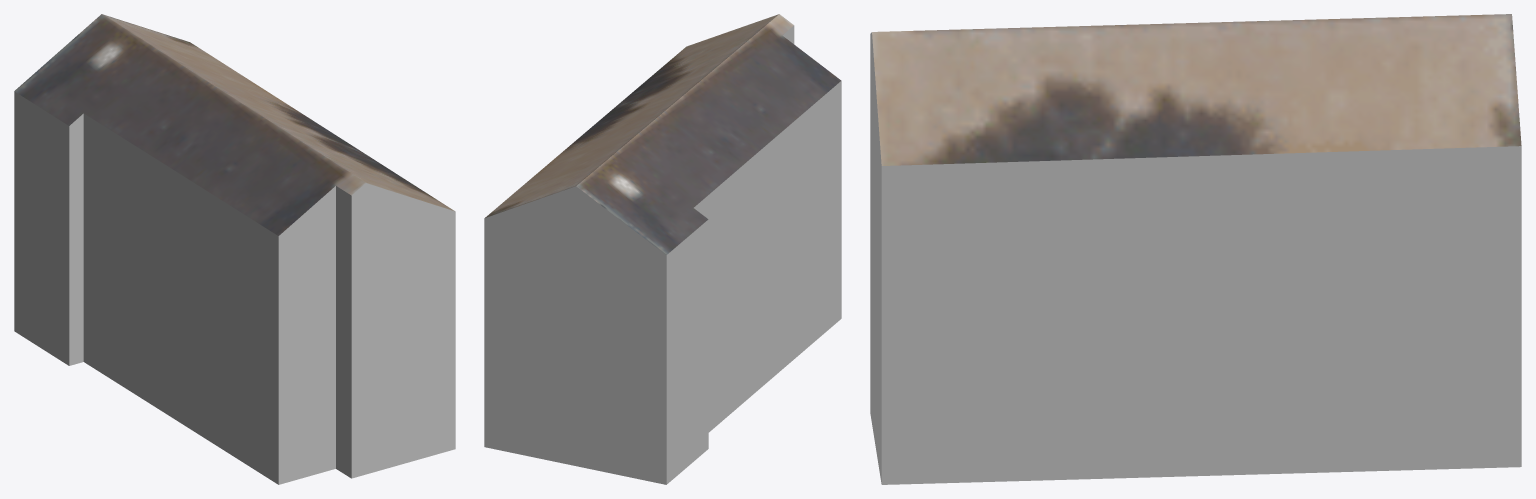
File: DEBW_0010007Tx6W.gltf
The picture shows the model from 3 angles, left to right: view 1: azimuth 30°, elevation 25°; view 2: azimuth 150°, elevation 25°; view 3: azimuth 270°, elevation 25°; orthographic projection. The views are drawn at different scales.
Parts seen in each view (by area): view 1: Z_UP; view 2: Z_UP; view 3: Z_UP.
Boxes of the visible parts, x1=… form: Z_UP: x1=14, y1=14, x2=455, y2=484; Z_UP: x1=484, y1=14, x2=841, y2=484; Z_UP: x1=870, y1=14, x2=1521, y2=484.
Bounding box in the file's own units: 13.97 × 18.56 × 27.88.
Materials: 2 (1 with a texture image).
